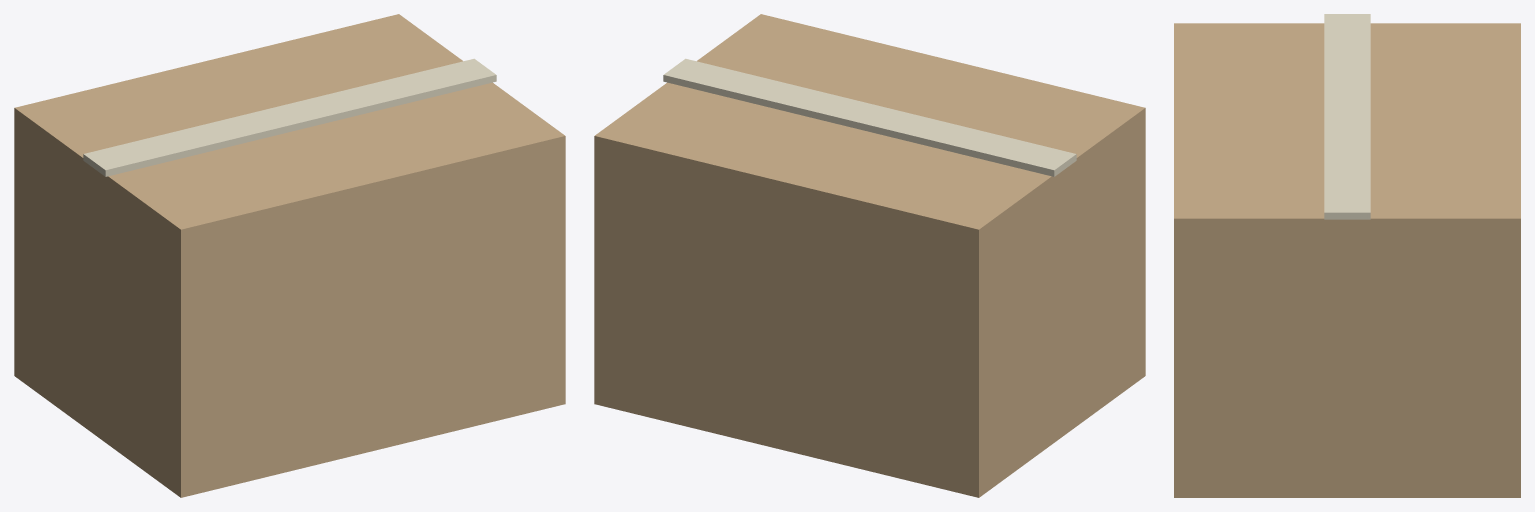
Rendered from cardboard_box.fbx.
3 views of the same model, side by side, from view 1: azimuth 30°, elevation 25°; view 2: azimuth 150°, elevation 25°; view 3: azimuth 270°, elevation 25° (orthographic). The views are drawn at different scales.
Visible parts, largest first — view 1: cardboard_box; view 2: cardboard_box; view 3: cardboard_box.
Boxes of the visible parts, <box> form: cardboard_box: <box>14,14,565,497</box>; cardboard_box: <box>594,14,1145,497</box>; cardboard_box: <box>1174,14,1520,497</box>.
Bounding box in the file's own units: 0.122 × 0.0822 × 0.09.
